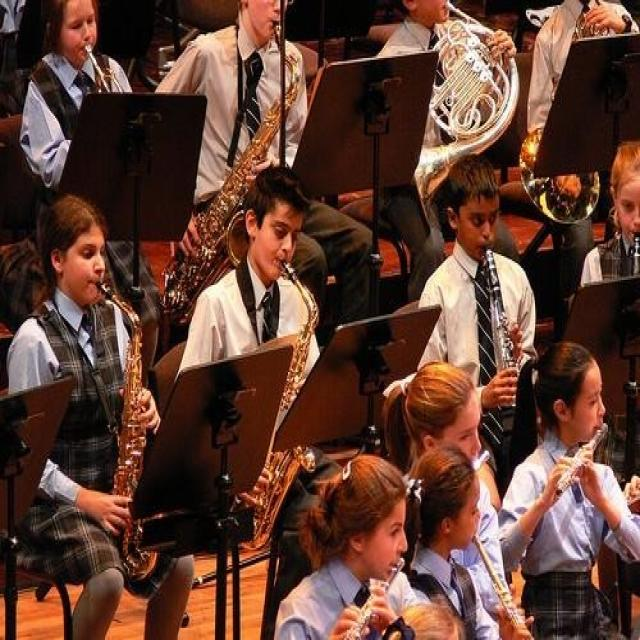clarinet: (478, 244, 526, 412)
saxophone: (167, 20, 301, 327), (244, 255, 317, 554), (96, 282, 159, 581)
